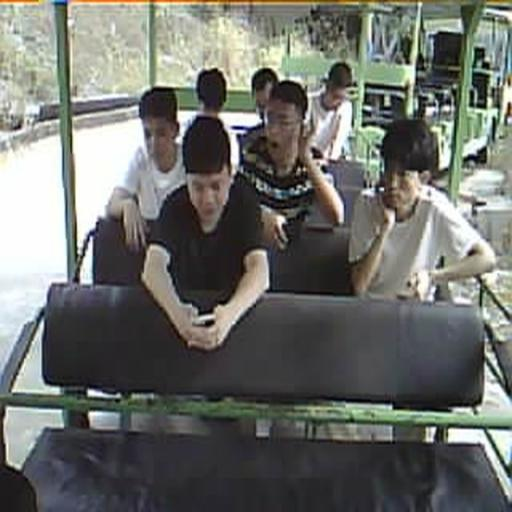persona: (140, 114, 270, 352), (347, 118, 496, 302), (235, 79, 346, 251), (105, 86, 188, 253), (181, 67, 240, 170), (304, 61, 354, 161), (250, 68, 278, 127)
